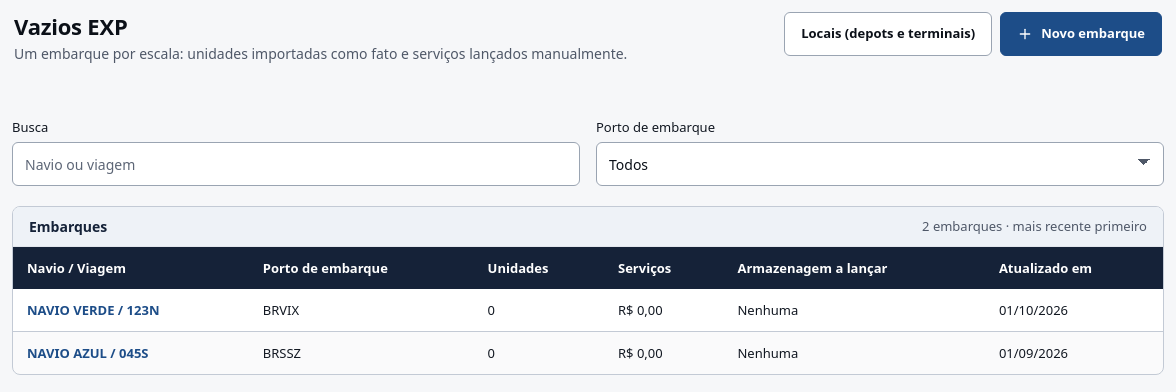
Test: EmbarqueVazios › sem embarque escolhido, lista todos os embarques, o mais recente primeiro, sem o ID interno
Expected: the links "NAVIO" read "NAVIO VERDE / 123N", "NAVIO AZUL / 045S", in this order, x1=27 y1=301 x2=160 y2=319; x1=27 y1=344 x2=148 y2=362
Expected: the link "Locais (depots e terminais)" is shown, x1=784 y1=12 x2=992 y2=56
Type "azul" into the search field labelled "Busca" at (296, 164), box x1=12 y1=142 x2=580 y2=186
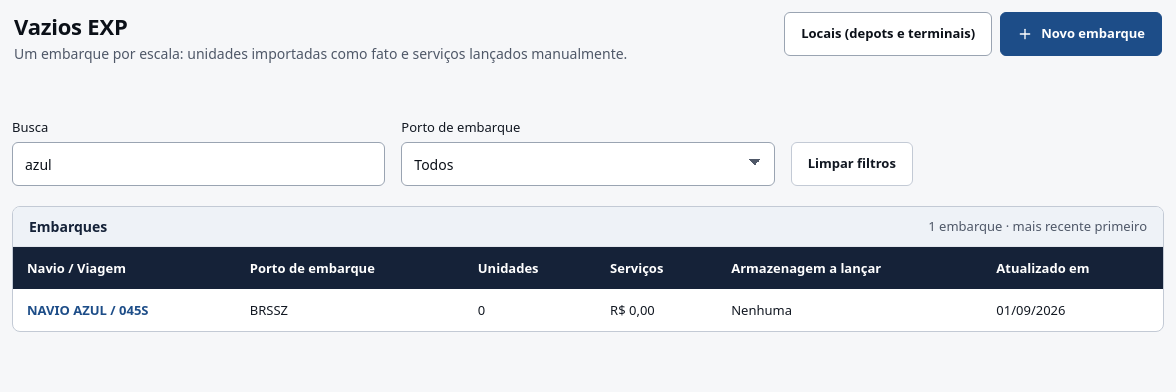
Expected: the link "NAVIO AZUL / 045S" is shown, x1=27 y1=301 x2=148 y2=319
Now the link "NAVIO VERDE / 123N" is gone
